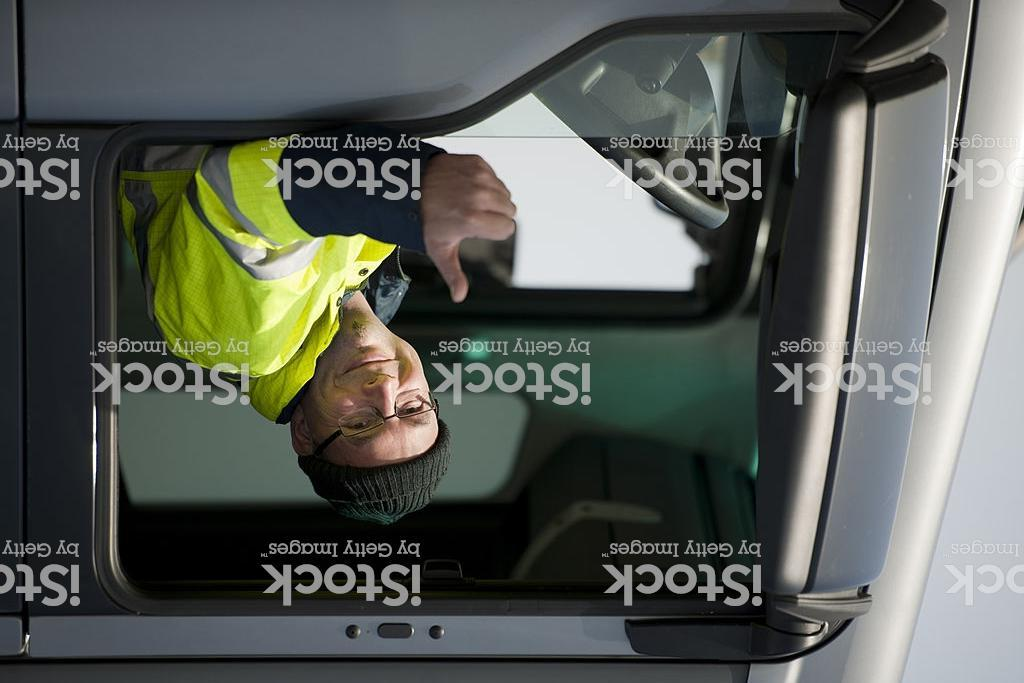thumbsdown: (439, 153, 517, 304)
